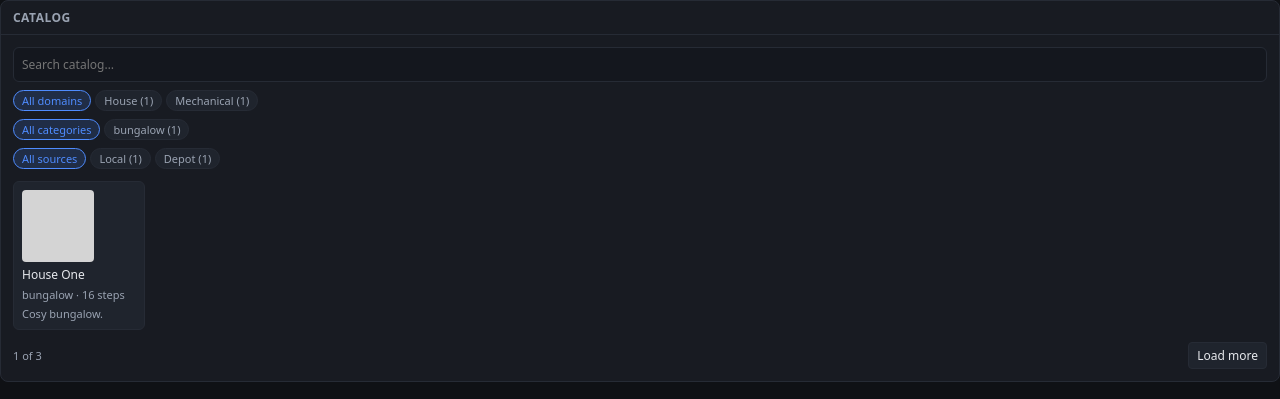
Test case: CatalogPanel › pages with Load more, appending the next page
Expected: the button "House One" is shown, top-left (13, 181), bottom-right (145, 330)
Expected: the text "1 of 3" is shown, top-left (13, 348), bottom-right (42, 363)
Click the button "Load more" at x=1228, y=356, box top-left (1188, 342), bottom-right (1267, 369)
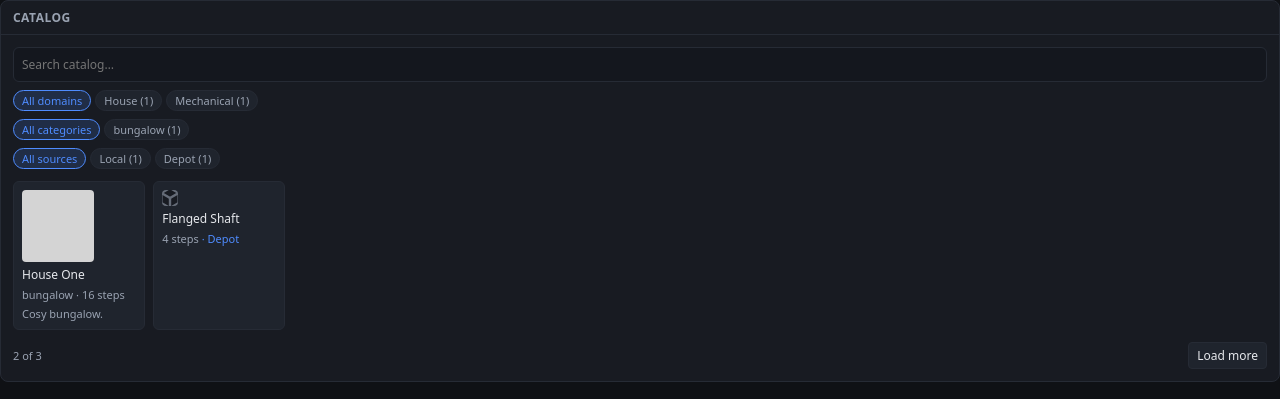
Expected: the button "House One" is shown, top-left (13, 181), bottom-right (145, 330)
Now the button "Flanged Shaft 4 steps · Depot" is shown, box top-left (153, 181), bottom-right (285, 330)
